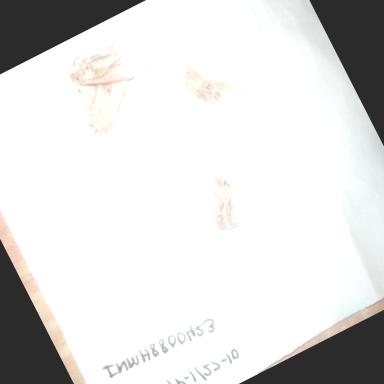abw: (58, 55, 144, 144), (155, 32, 230, 121), (57, 30, 140, 109), (186, 162, 257, 243)
